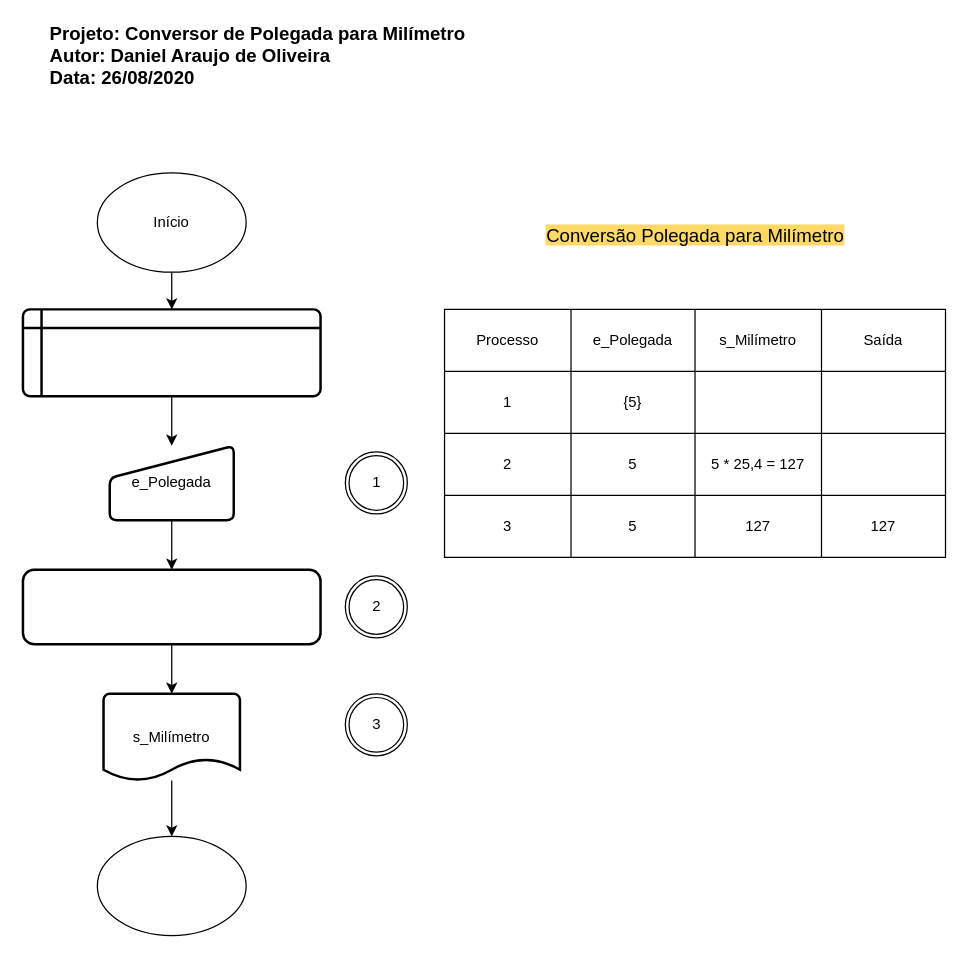
This 967x957 diagram has some shape labels left out. Here are the shapes that lost their labels. From the top down, the centre of each, then its label:
At (x=171, y=352): "e_Polegada, s_Milímetro".
At (x=171, y=606): "s_Milímetro = e_Polegada * 25,4".
At (x=171, y=885): "Fim".
